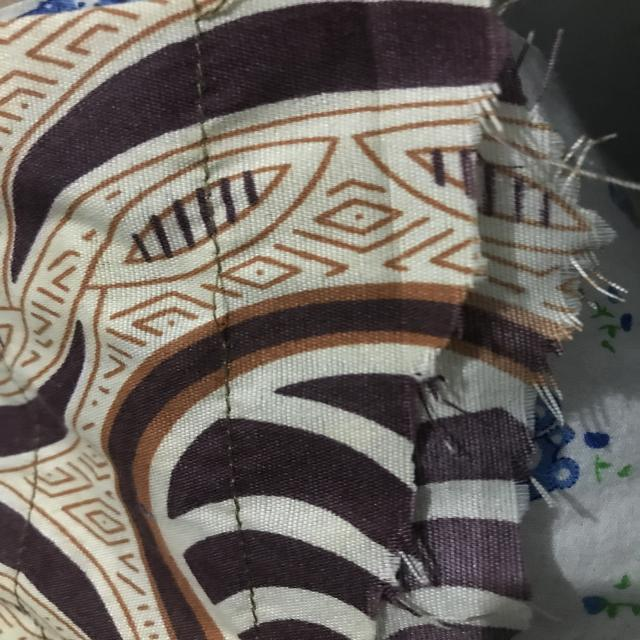skip: (195, 256, 254, 356)
